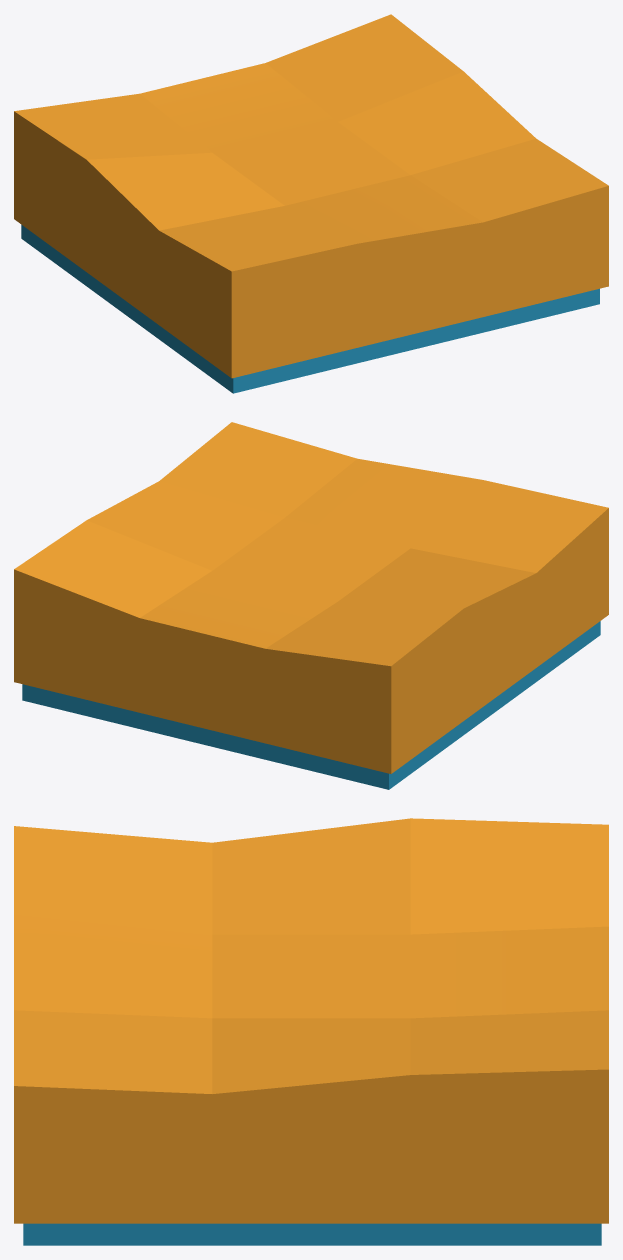
File: terrains_world-sea.fbx
3 renders of one model, top to bottom at view 1: azimuth 30°, elevation 25°; view 2: azimuth 150°, elevation 25°; view 3: azimuth 270°, elevation 25°, orthographic. The views are drawn at different scales.
Visible parts, largest first — view 1: terrains_world_sea; view 2: terrains_world_sea; view 3: terrains_world_sea.
Part boxes in pixels (x1,y1,x2,y2): terrains_world_sea: (14,14,608,393); terrains_world_sea: (14,422,608,789); terrains_world_sea: (14,818,608,1245).
Size of the model in its own units: 200 by 66.71 by 200.
